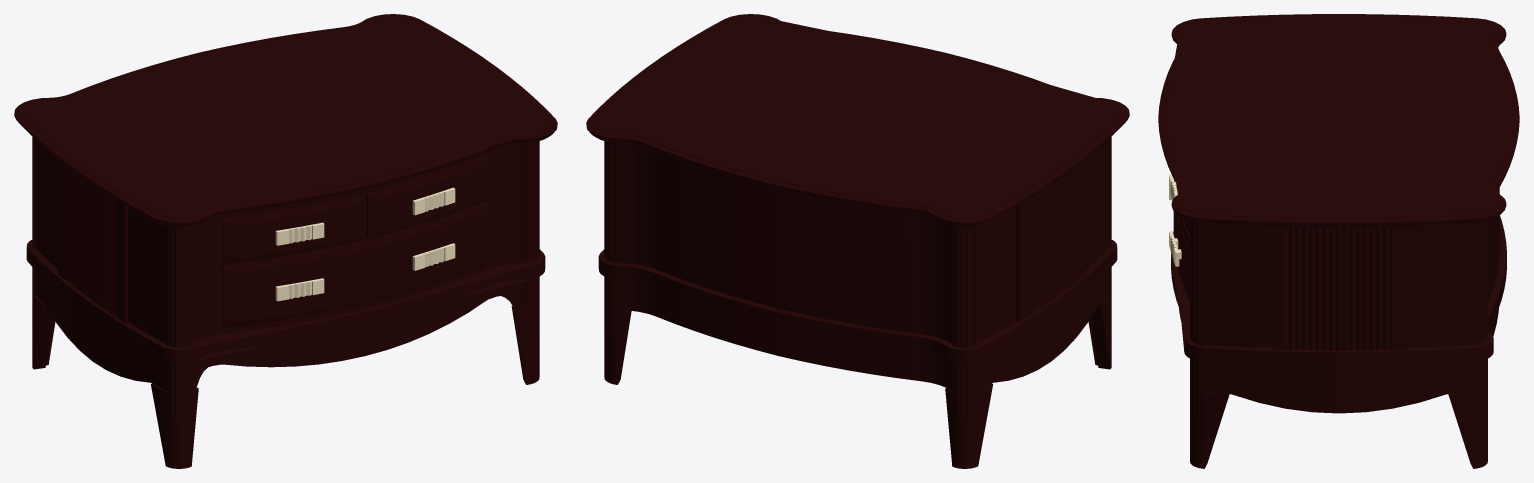
The model's file is Bureau.fbx.
3 renders of one model, left to right at view 1: azimuth 30°, elevation 25°; view 2: azimuth 150°, elevation 25°; view 3: azimuth 270°, elevation 25°, orthographic.
Parts seen in each view (by area): view 1: Group26, Group15, Group3, Group17, Group14, Group5, Group16, Group4, Leg_Simple4, Corner_Face3, Leg_Simple2, Corner_Face1 (+5 smaller); view 2: Group26, Group15, Group3, Group14, Leg_Simple3, Corner_Face4, Leg_Simple1, Corner_Face2, Leg_Simple4; view 3: Group26, Group3, Group2, Leg_Simple1, Leg_Simple2, Corner_Face1, Corner_Face2, Group5.
Part boxes in pixels (left/top/right/bottom): Group26: left=14, top=14, right=557, bottom=228; Group15: left=26, top=139, right=368, bottom=390; Group3: left=365, top=144, right=545, bottom=355; Group17: left=222, top=241, right=367, bottom=328; Group14: left=58, top=160, right=127, bottom=322; Group5: left=365, top=202, right=489, bottom=302; Group16: left=222, top=195, right=364, bottom=264; Group4: left=366, top=155, right=489, bottom=238; Leg_Simple4: left=150, top=362, right=198, bottom=468; Corner_Face3: left=166, top=226, right=191, bottom=347; Leg_Simple2: left=511, top=276, right=539, bottom=384; Corner_Face1: left=525, top=141, right=539, bottom=263; Group26: left=586, top=14, right=1129, bottom=228; Group15: left=775, top=139, right=1117, bottom=390; Group3: left=598, top=144, right=778, bottom=355; Group14: left=1016, top=160, right=1085, bottom=322; Leg_Simple3: left=945, top=362, right=993, bottom=468; Corner_Face4: left=952, top=226, right=977, bottom=347; Leg_Simple1: left=604, top=276, right=631, bottom=384; Corner_Face2: left=604, top=141, right=618, bottom=263; Leg_Simple4: left=1088, top=267, right=1111, bottom=369; Group26: left=1158, top=14, right=1519, bottom=228; Group3: left=1171, top=188, right=1506, bottom=413; Group2: left=1271, top=227, right=1405, bottom=350; Leg_Simple1: left=1448, top=358, right=1487, bottom=468; Leg_Simple2: left=1190, top=358, right=1229, bottom=468; Corner_Face1: left=1190, top=221, right=1204, bottom=345; Corner_Face2: left=1473, top=221, right=1487, bottom=345; Group5: left=1173, top=211, right=1189, bottom=300.
Bounding box in the file's own units: 131 × 75.75 × 95.69.
